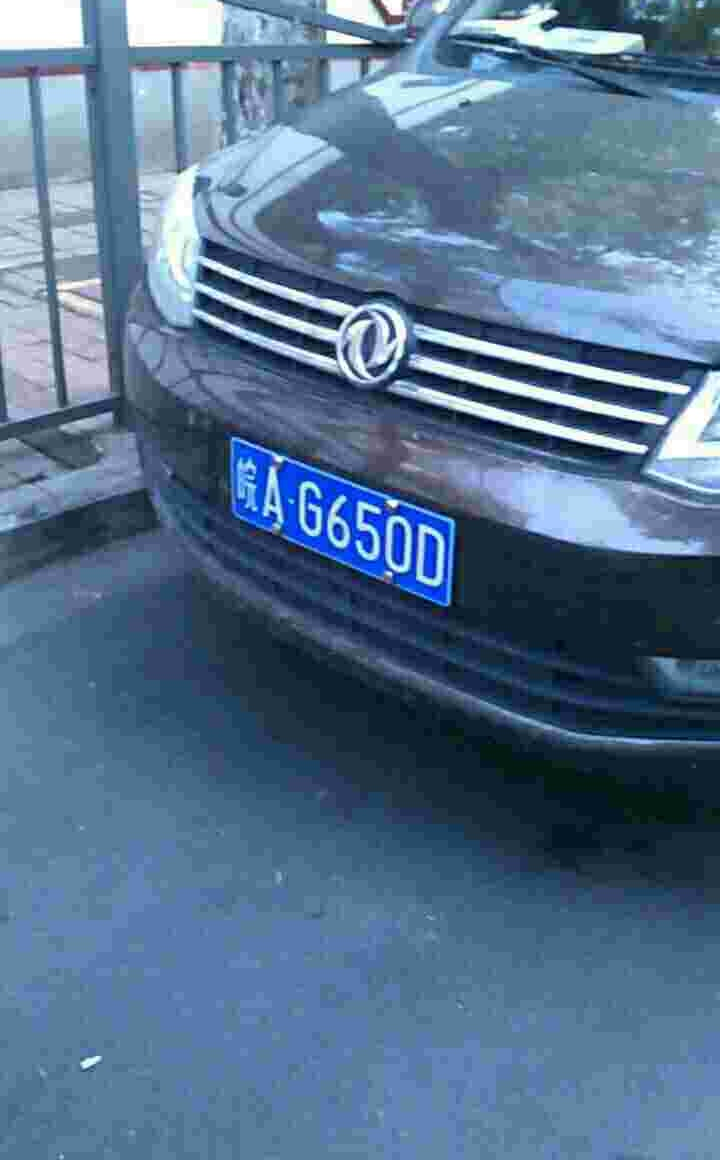license_plate: (227, 425, 467, 618)
